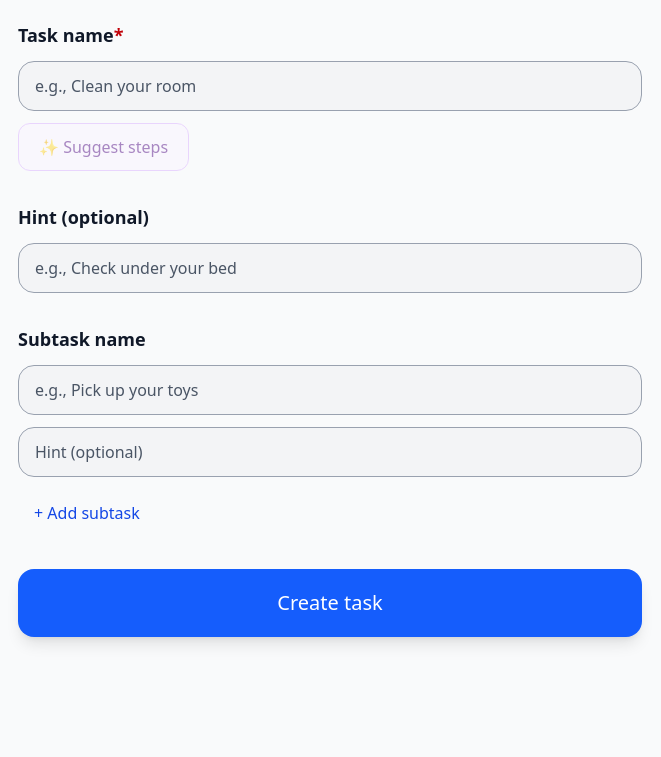
Test: AddTask - AI step suggestions › sends the task to the API and fills the steps
This screenshot has width=661, height=757.
In the field labelled "Task name*": (330, 86) [18,61,642,111], type "Clean your room"
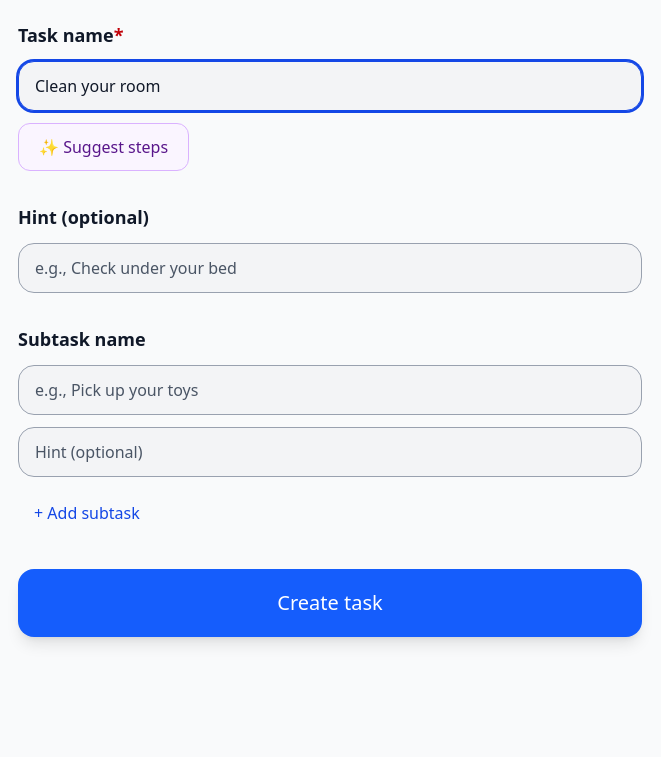
Click the button "✨ Suggest steps": (104, 147) [18,123,189,171]
(page scrolled)
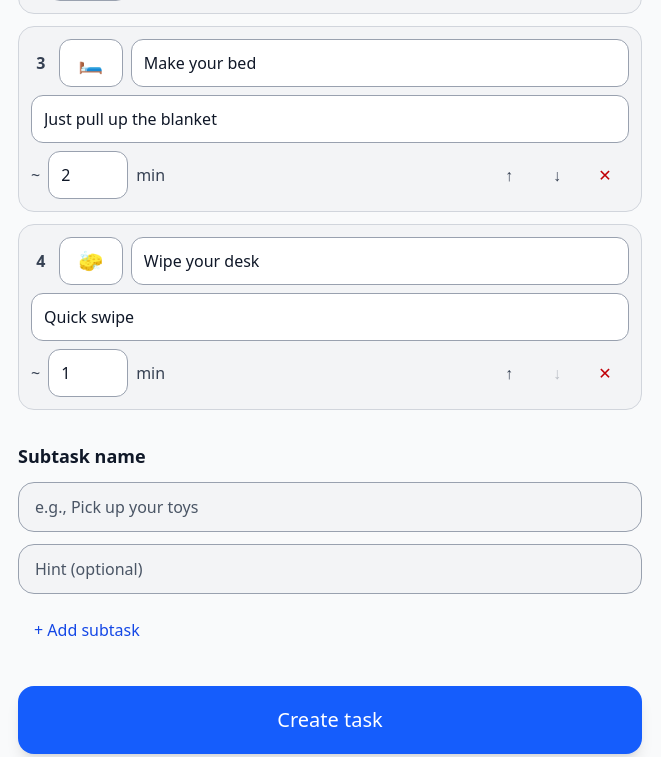
Result: the field named "Step 3 hint" holds "Just pull up the blanket" at [31,95,629,143]
Result: the number field named "Step 4 minutes" holds "1" at [48,349,128,397]
